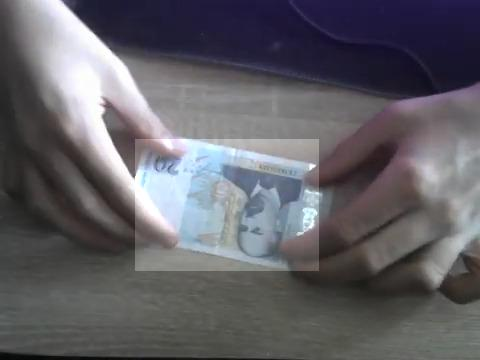20leva: (135, 139, 319, 271)
